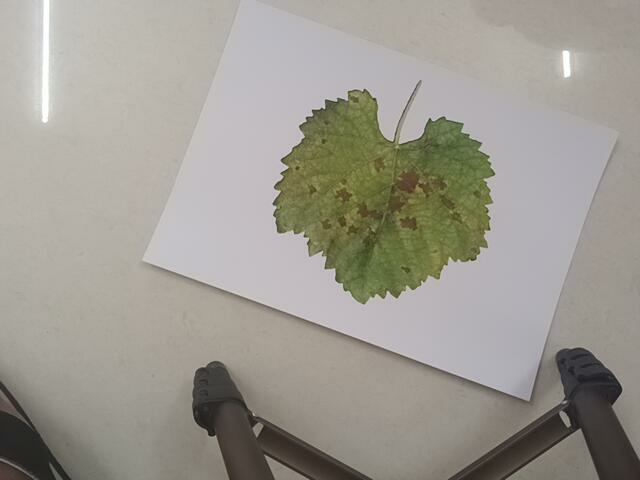Grape_Leaf_Vine_Disease: (272, 65, 517, 288)
